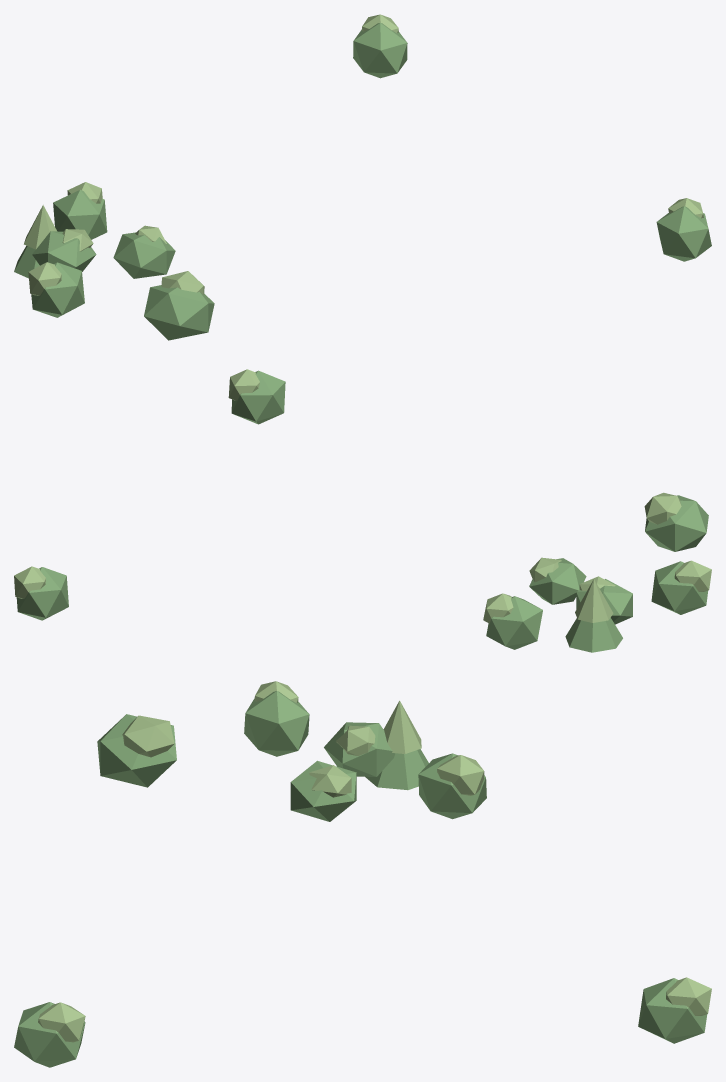
Rendered from rock_garden_wind_canopies.fbx.
The picture shows the model from 3 angles, top to bottom: view 1: azimuth 30°, elevation 25°; view 2: azimuth 150°, elevation 25°; view 3: azimuth 270°, elevation 25°; orthographic projection. The views are drawn at different scales.
Parts seen in each view (by area): view 1: chunk_rock_garden__tree_canopy_07, chunk_rock_garden__tree_canopy_13, chunk_rock_garden__tree_canopy_15, chunk_rock_garden__tree_canopy_11, chunk_rock_garden__tree_canopy_09, chunk_rock_garden__tree_canopy_02, chunk_rock_garden__tree_canopy_05, chunk_rock_garden__tree_canopy_01, chunk_rock_garden__tree_canopy_04, chunk_rock_garden__tree_canopy_08; view 2: chunk_rock_garden__tree_canopy_07, chunk_rock_garden__tree_canopy_09, chunk_rock_garden__tree_canopy_15, chunk_rock_garden__tree_canopy_02, chunk_rock_garden__tree_canopy_13, chunk_rock_garden__tree_canopy_11, chunk_rock_garden__tree_canopy_03, chunk_rock_garden__tree_canopy_05, chunk_rock_garden__tree_canopy_04, chunk_rock_garden__tree_canopy_08, chunk_rock_garden__tree_canopy_01, chunk_rock_garden__tree_canopy_14 (+3 smaller); view 3: chunk_rock_garden__tree_canopy_02, chunk_rock_garden__tree_canopy_07, chunk_rock_garden__tree_canopy_13, chunk_rock_garden__tree_canopy_15, chunk_rock_garden__tree_canopy_09, chunk_rock_garden__tree_canopy_11, chunk_rock_garden__tree_canopy_05, chunk_rock_garden__tree_canopy_08, chunk_rock_garden__tree_canopy_03, chunk_rock_garden__tree_canopy_10, chunk_rock_garden__tree_canopy_04, chunk_rock_garden__tree_canopy_16 (+3 smaller).
Boxes of the visible parts, x1=… form: chunk_rock_garden__tree_canopy_07: x1=144, y1=285, x2=214, y2=340; chunk_rock_garden__tree_canopy_13: x1=353, y1=22, x2=407, y2=78; chunk_rock_garden__tree_canopy_15: x1=656, y1=206, x2=711, y2=261; chunk_rock_garden__tree_canopy_11: x1=113, y1=232, x2=175, y2=278; chunk_rock_garden__tree_canopy_09: x1=53, y1=189, x2=107, y2=239; chunk_rock_garden__tree_canopy_02: x1=31, y1=262, x2=84, y2=317; chunk_rock_garden__tree_canopy_05: x1=32, y1=231, x2=96, y2=271; chunk_rock_garden__tree_canopy_01: x1=28, y1=262, x2=61, y2=295; chunk_rock_garden__tree_canopy_04: x1=24, y1=205, x2=56, y2=249; chunk_rock_garden__tree_canopy_08: x1=161, y1=271, x2=204, y2=294; chunk_rock_garden__tree_canopy_07: x1=645, y1=495, x2=708, y2=551; chunk_rock_garden__tree_canopy_09: x1=486, y1=596, x2=542, y2=649; chunk_rock_garden__tree_canopy_15: x1=231, y1=370, x2=285, y2=424; chunk_rock_garden__tree_canopy_02: x1=651, y1=561, x2=708, y2=614; chunk_rock_garden__tree_canopy_13: x1=16, y1=567, x2=68, y2=620; chunk_rock_garden__tree_canopy_11: x1=529, y1=558, x2=586, y2=604; chunk_rock_garden__tree_canopy_03: x1=565, y1=617, x2=622, y2=652; chunk_rock_garden__tree_canopy_05: x1=576, y1=579, x2=632, y2=624; chunk_rock_garden__tree_canopy_04: x1=575, y1=579, x2=613, y2=622; chunk_rock_garden__tree_canopy_08: x1=644, y1=492, x2=681, y2=524; chunk_rock_garden__tree_canopy_01: x1=674, y1=560, x2=711, y2=591; chunk_rock_garden__tree_canopy_14: x1=14, y1=566, x2=45, y2=598; chunk_rock_garden__tree_canopy_02: x1=244, y1=691, x2=309, y2=756; chunk_rock_garden__tree_canopy_07: x1=97, y1=714, x2=176, y2=787; chunk_rock_garden__tree_canopy_13: x1=638, y1=978, x2=707, y2=1043; chunk_rock_garden__tree_canopy_15: x1=14, y1=1002, x2=85, y2=1067; chunk_rock_garden__tree_canopy_09: x1=418, y1=753, x2=486, y2=819; chunk_rock_garden__tree_canopy_11: x1=290, y1=760, x2=356, y2=821; chunk_rock_garden__tree_canopy_05: x1=324, y1=722, x2=395, y2=776; chunk_rock_garden__tree_canopy_08: x1=122, y1=715, x2=174, y2=757; chunk_rock_garden__tree_canopy_03: x1=365, y1=749, x2=428, y2=790; chunk_rock_garden__tree_canopy_10: x1=437, y1=755, x2=484, y2=795; chunk_rock_garden__tree_canopy_04: x1=383, y1=700, x2=421, y2=753; chunk_rock_garden__tree_canopy_16: x1=38, y1=1002, x2=85, y2=1042.
Size of the model in its own units: 197 by 23.14 by 173.
